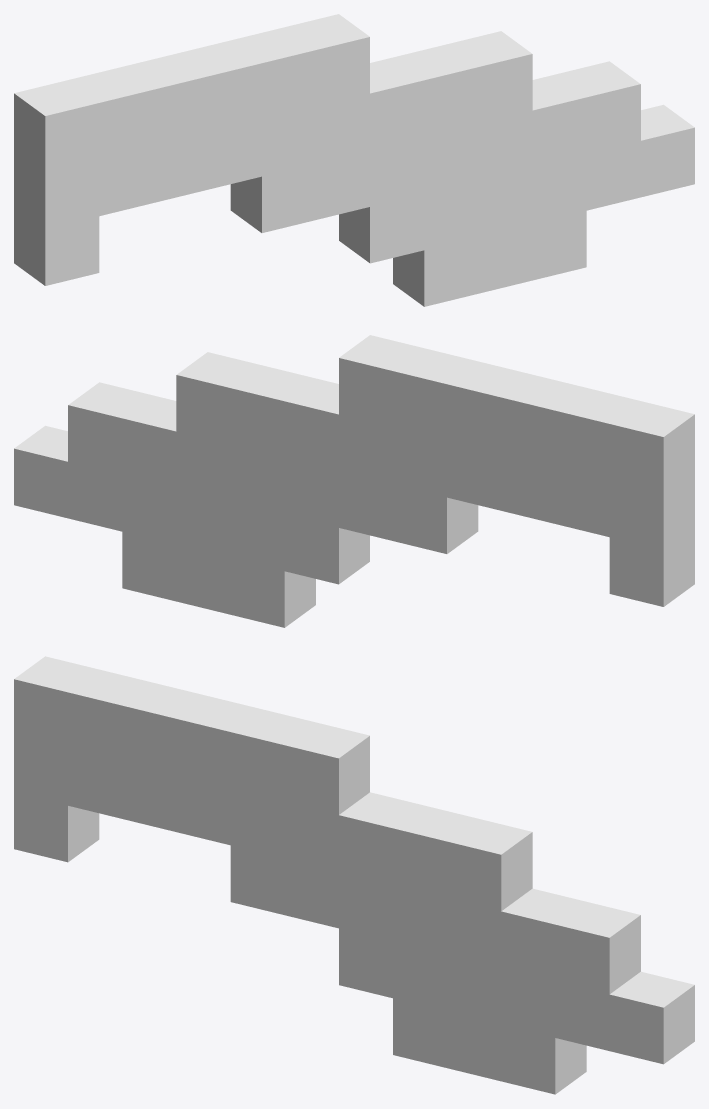
The model's file is Fight_028_2_08_fx.obj.
The picture shows the model from 3 angles, top to bottom: view 1: azimuth 30°, elevation 25°; view 2: azimuth 150°, elevation 25°; view 3: azimuth 330°, elevation 25°; orthographic projection.
Bounding box in the file's own units: 1.2 × 0.5 × 0.1.
